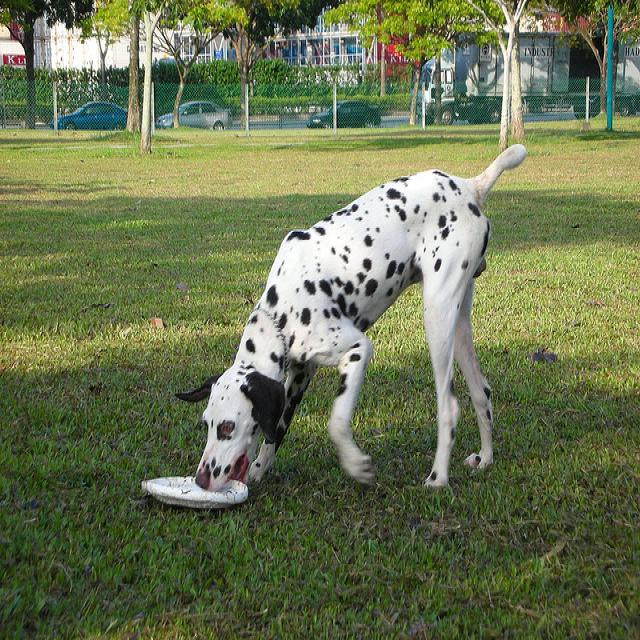Vehicle: (408, 33, 601, 126), (426, 91, 502, 127), (156, 101, 231, 131), (56, 100, 128, 130), (307, 101, 380, 129), (573, 92, 637, 119)
